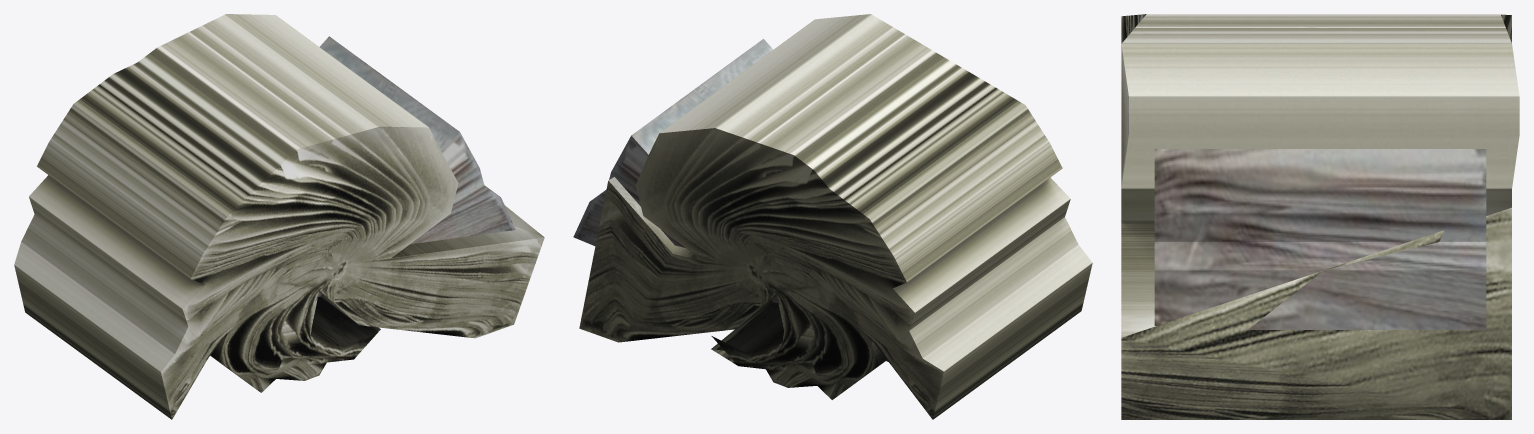
Rendered from trash_book.fbx.
3 renders of one model, left to right at view 1: azimuth 30°, elevation 25°; view 2: azimuth 150°, elevation 25°; view 3: azimuth 270°, elevation 25°, orthographic. The views are drawn at different scales.
Visible parts, largest first — view 1: trash_book001, trash_book002; view 2: trash_book001, trash_book002; view 3: trash_book001, trash_book002.
Boxes of the visible parts, bbox=[...] form: trash_book001: bbox=[14, 14, 544, 419]; trash_book002: bbox=[220, 36, 515, 296]; trash_book001: bbox=[579, 14, 1092, 419]; trash_book002: bbox=[573, 39, 1004, 361]; trash_book001: bbox=[1121, 14, 1519, 419]; trash_book002: bbox=[1154, 149, 1486, 329].
Bounding box in the file's own units: 29.93 × 21.18 × 18.08.
